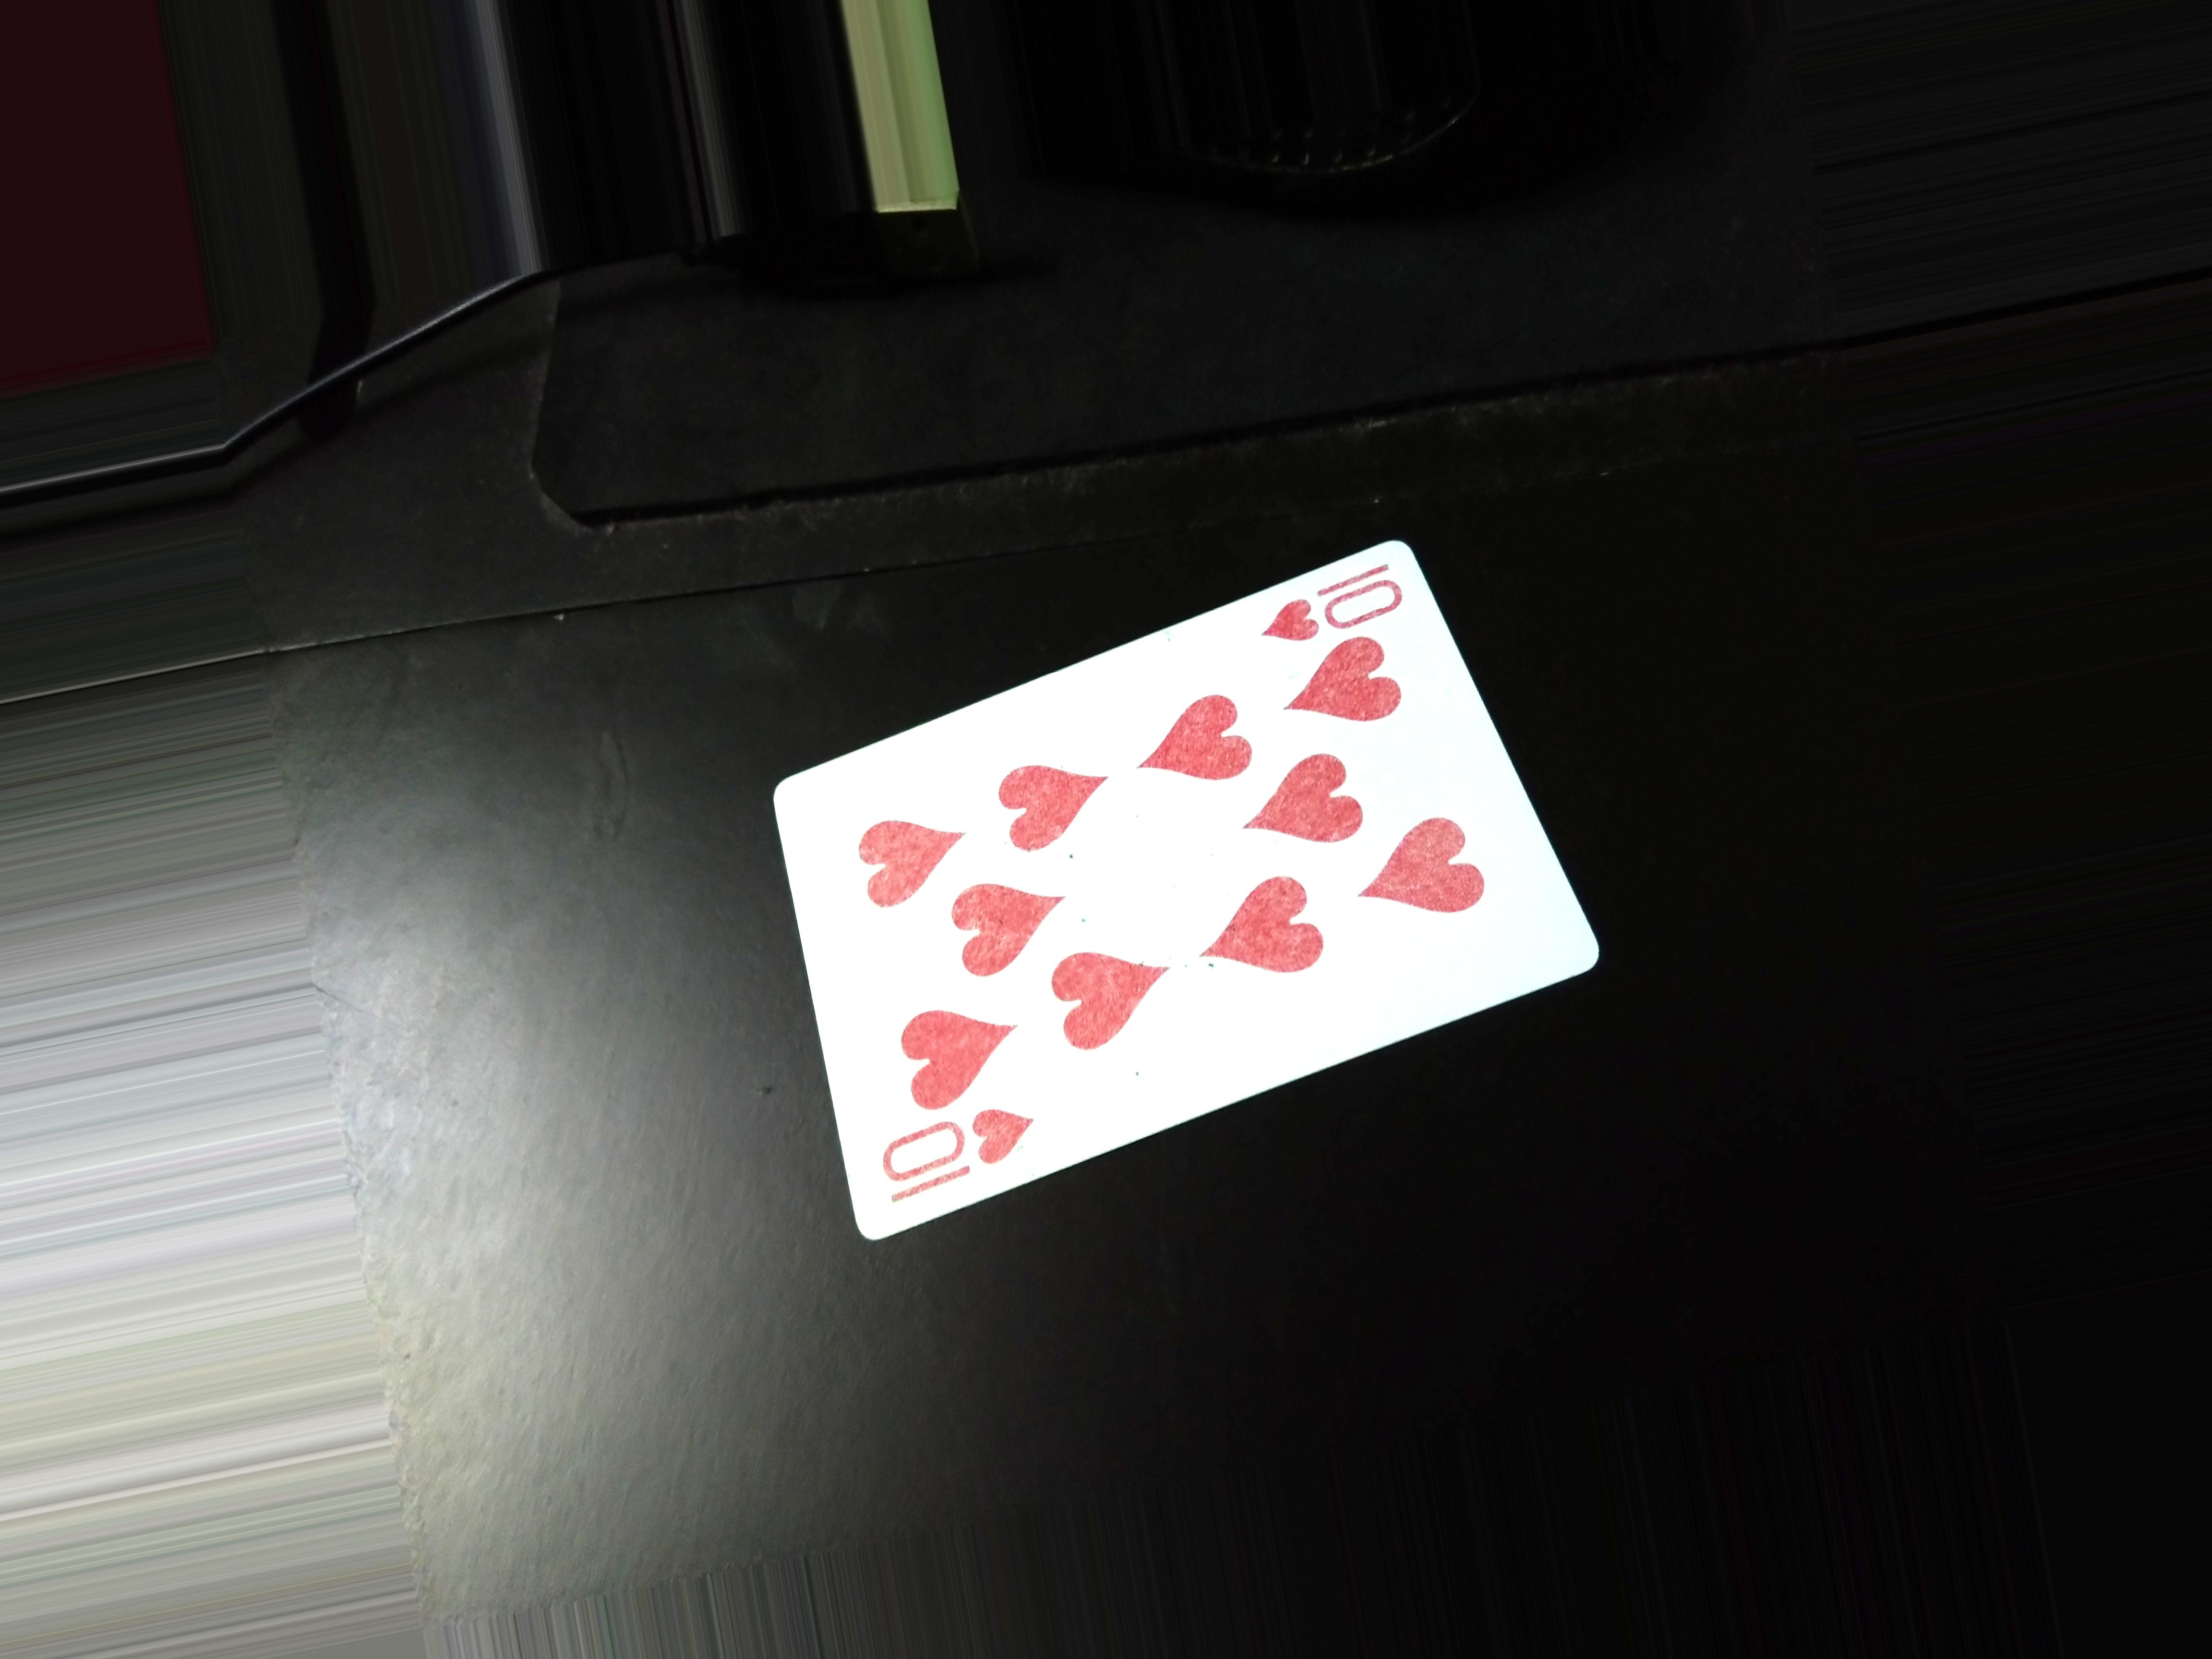10H: (869, 1122, 1050, 1194)
